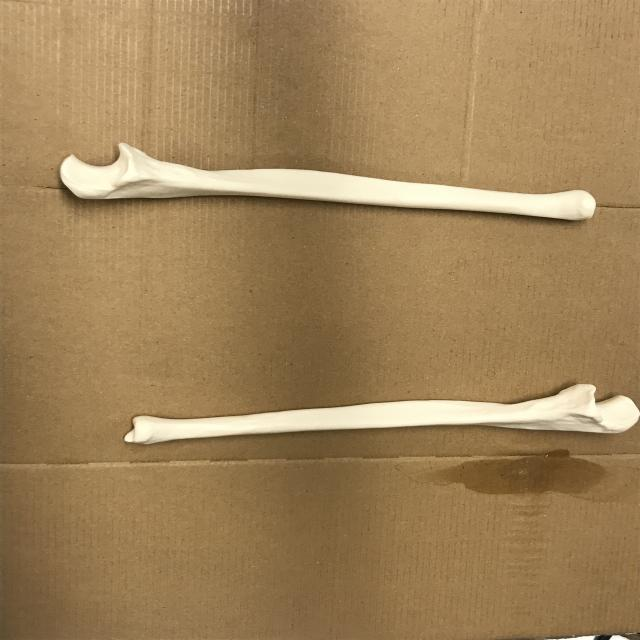bone: (57, 142, 608, 226), (125, 378, 640, 443)
